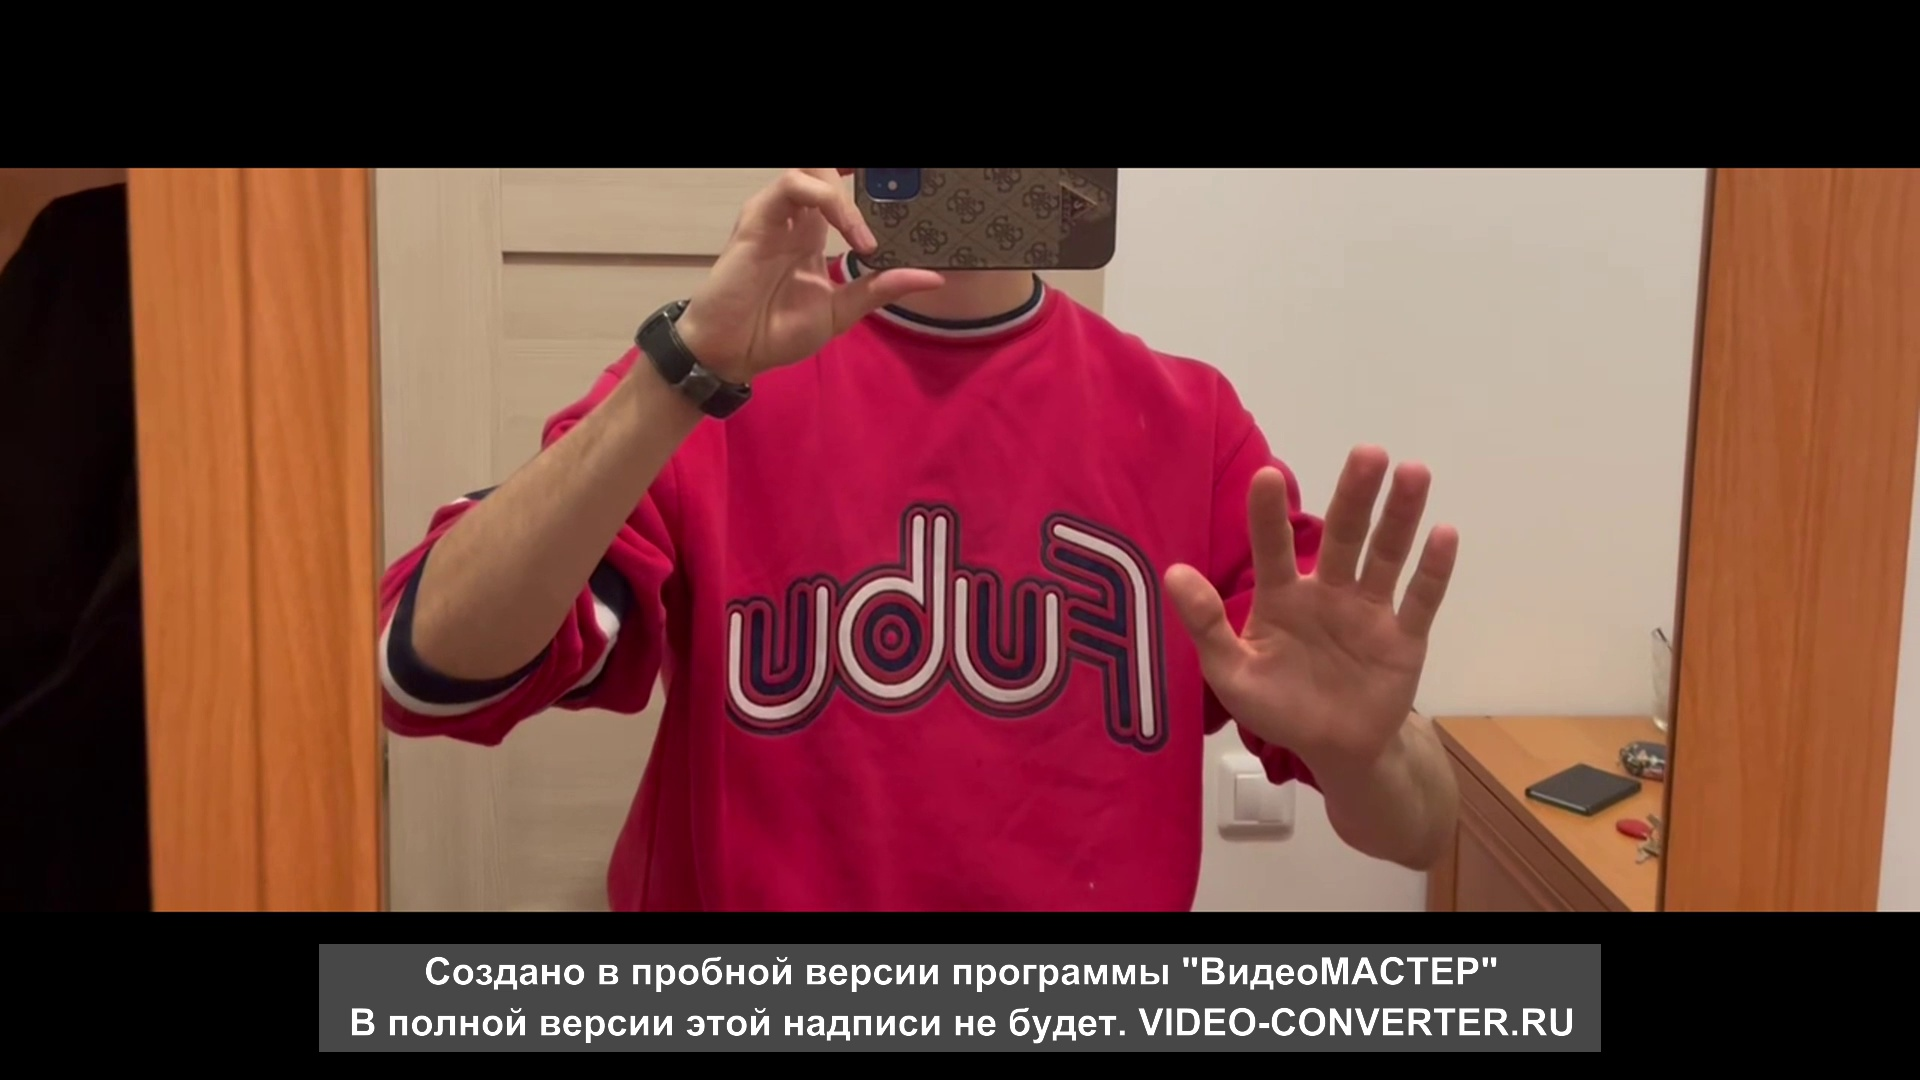Ладонь: (1164, 443, 1462, 761)
